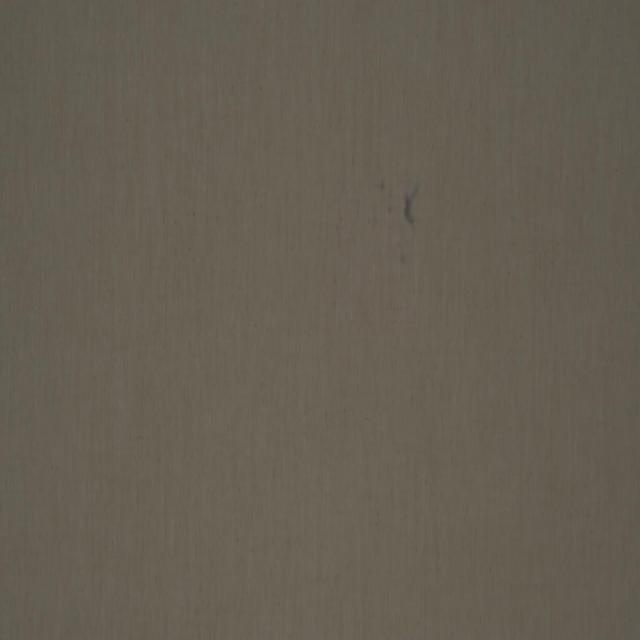dirty: (403, 186, 418, 229)
